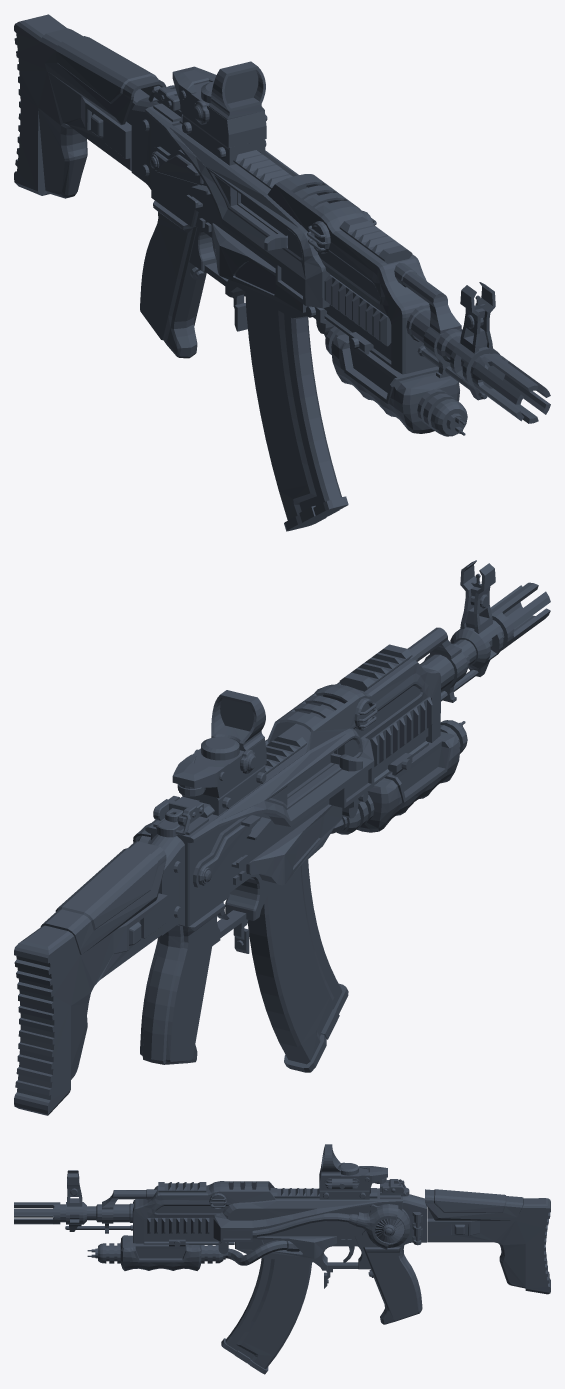
File: valkyrie_original.obj
The picture shows the model from 3 angles, top to bottom: view 1: azimuth 30°, elevation 25°; view 2: azimuth 150°, elevation 25°; view 3: azimuth 270°, elevation 25°; orthographic projection. The views are drawn at different scales.
Parts seen in each view (by area): view 1: valkyrie_Original; view 2: valkyrie_Original; view 3: valkyrie_Original.
Part boxes in pixels (x1,y1,x2,y2): valkyrie_Original: (14,14,550,531); valkyrie_Original: (14,560,550,1115); valkyrie_Original: (14,1144,550,1374).
Size of the model in its own units: 7.53 by 30.61 by 66.7.
